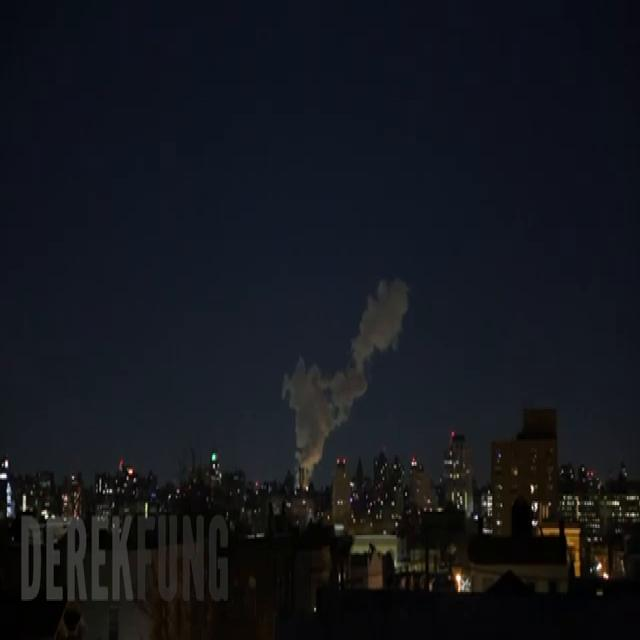smoke: (281, 279, 409, 491)
